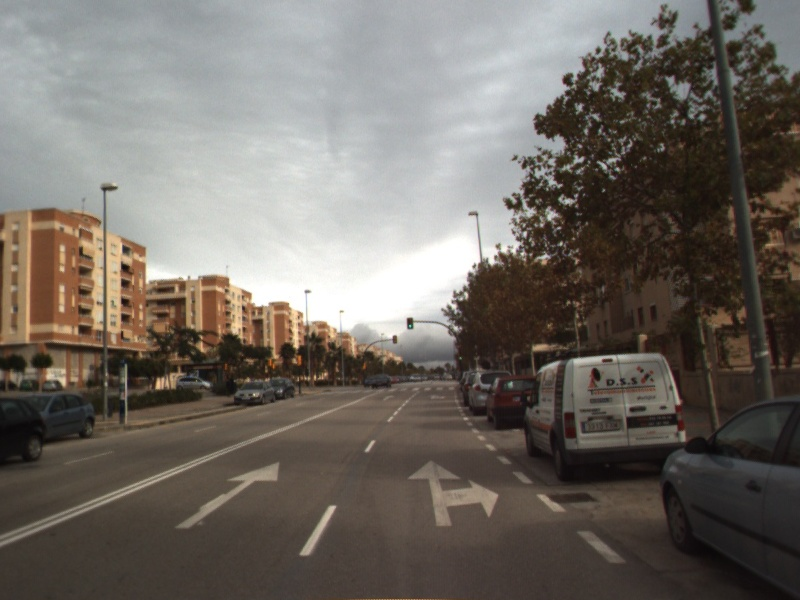STRAIGHT: (172, 460, 281, 531)
STRAIGHT_RIGHT: (406, 458, 501, 528)
